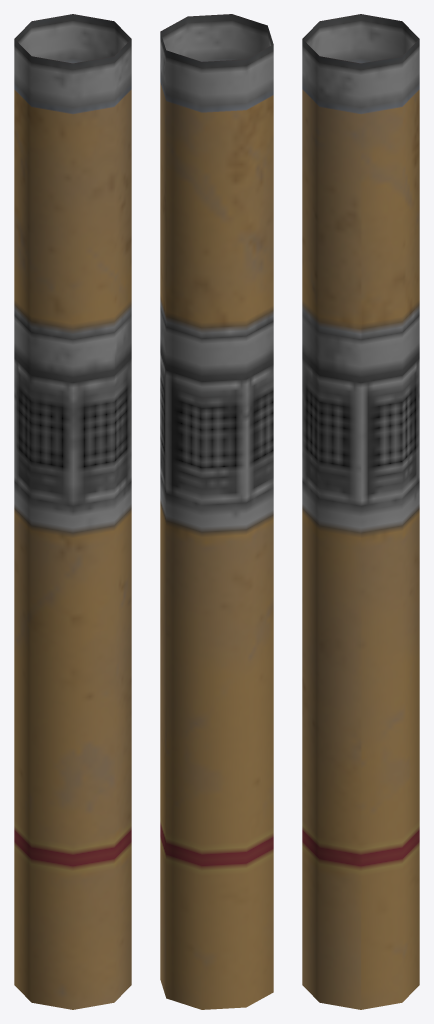
Rendered from CP_Pipe_D_1m_01.fbx.
The picture shows the model from 3 angles, left to right: view 1: azimuth 90°, elevation 25°; view 2: azimuth 210°, elevation 25°; view 3: azimuth 270°, elevation 25°; orthographic projection.
Visible parts, largest first — view 1: CP_Pipe_D_1m_01; view 2: CP_Pipe_D_1m_01; view 3: CP_Pipe_D_1m_01.
Boxes of the visible parts, x1,y1,x2,y2 form: CP_Pipe_D_1m_01: [14, 14, 131, 1009]; CP_Pipe_D_1m_01: [160, 14, 273, 1009]; CP_Pipe_D_1m_01: [302, 14, 419, 1009].
Bounding box in the file's own units: 11.21 × 100 × 11.21.
